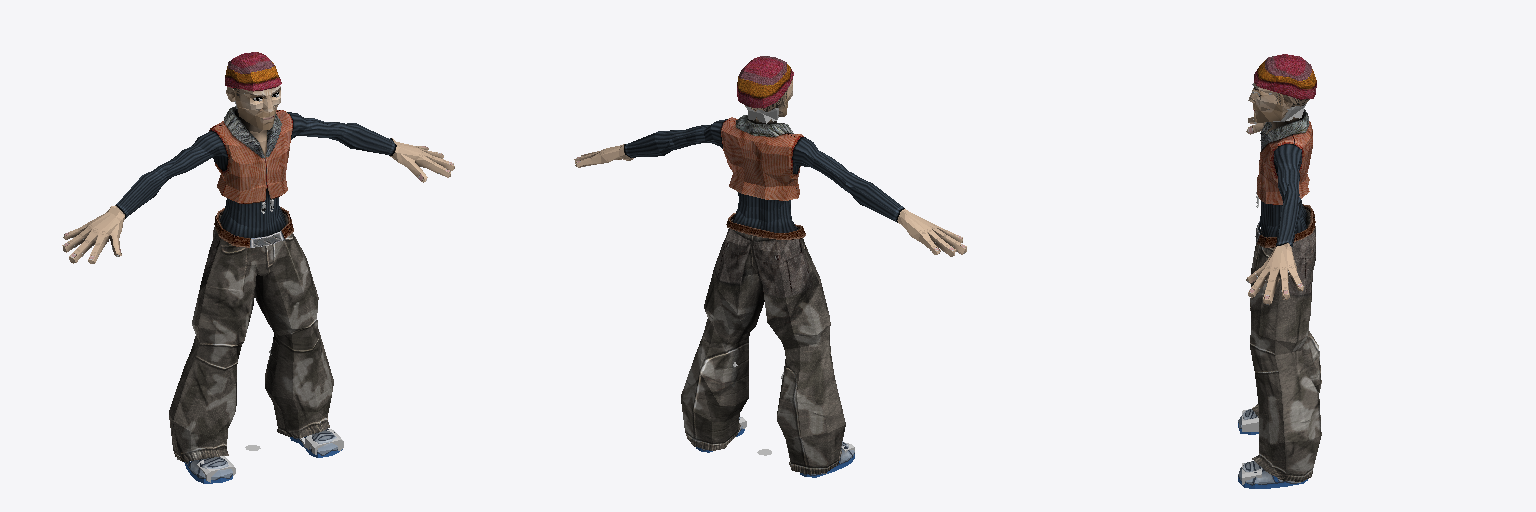
3 renders of one model, left to right at view 1: azimuth 30°, elevation 25°; view 2: azimuth 150°, elevation 25°; view 3: azimuth 270°, elevation 25°, orthographic.
Parts seen in each view (by area): view 1: (null); view 2: (null); view 3: (null).
Part boxes in pixels (x1,y1,x2,y2): (null): (62, 52, 454, 483); (null): (574, 56, 966, 477); (null): (1238, 54, 1321, 488).
Size of the model in its own units: 154 by 151 by 28.89.
Materials: 4 (2 with a texture image).